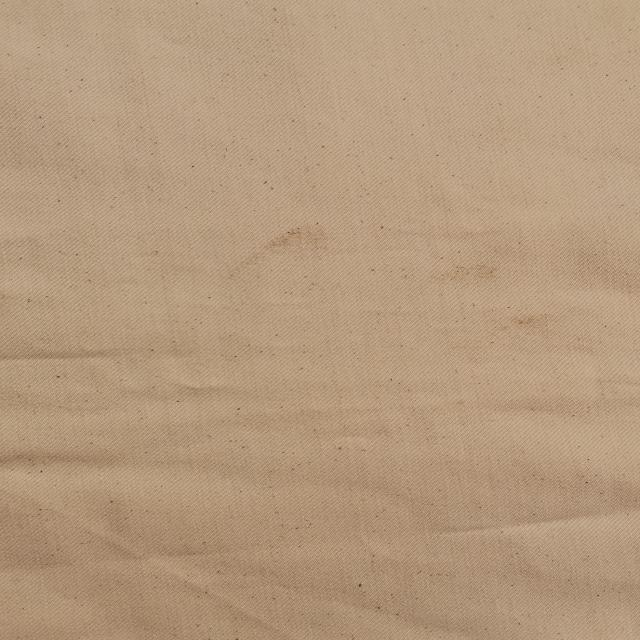taaaches: (238, 223, 340, 282), (424, 261, 502, 285), (497, 311, 559, 334)
